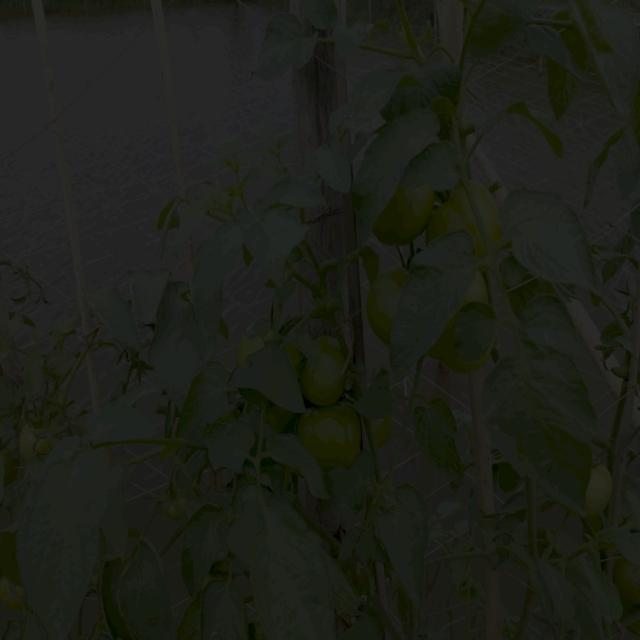tomato: (300, 405, 367, 466), (445, 189, 505, 252), (365, 267, 411, 338), (384, 189, 439, 243), (305, 337, 348, 402), (14, 417, 66, 459), (583, 466, 617, 518), (618, 554, 640, 617), (160, 494, 192, 525), (1, 579, 24, 617), (370, 413, 396, 446), (239, 330, 265, 353)
